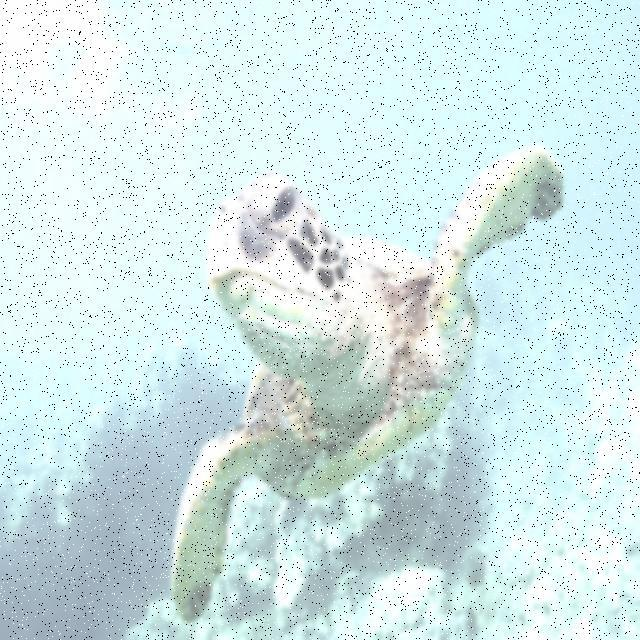tortoise: (145, 126, 578, 590)
